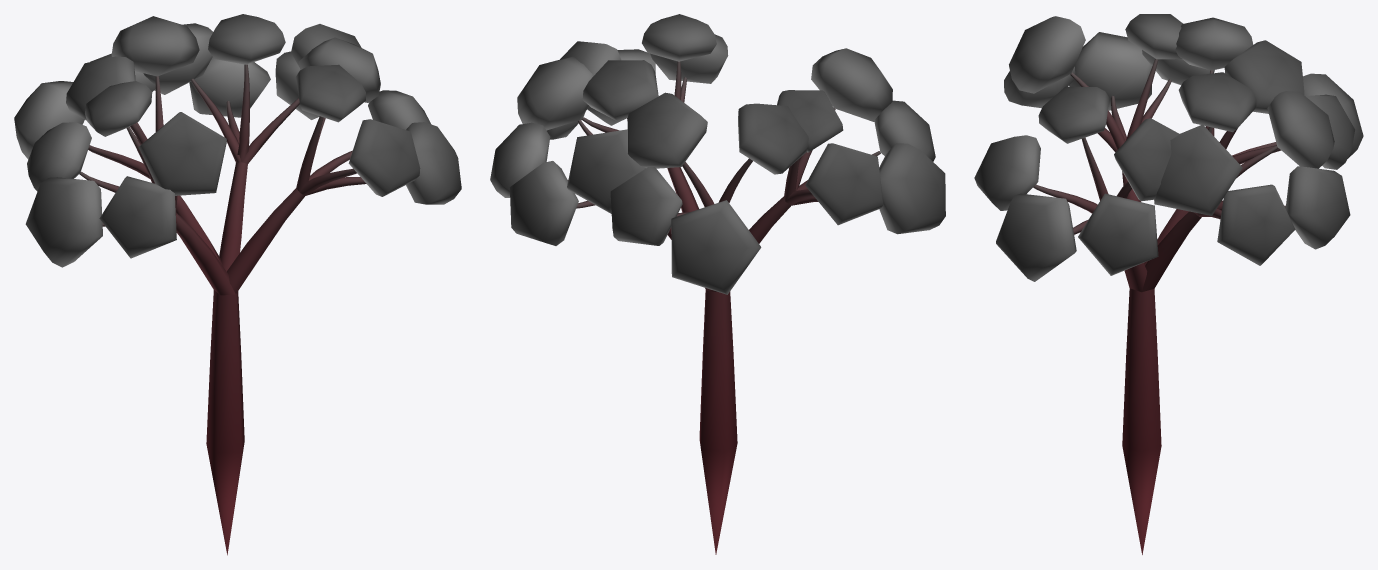
File: plants-trees-palms-gray-leaf-tree_v5.fbx
3 views of the same model, side by side, from view 1: azimuth 30°, elevation 25°; view 2: azimuth 150°, elevation 25°; view 3: azimuth 270°, elevation 25° (orthographic).
Parts seen in each view (by area): view 1: Gray Leaf Tree_v5; view 2: Gray Leaf Tree_v5; view 3: Gray Leaf Tree_v5.
Boxes of the visible parts, x1,y1,x2,y2 form: Gray Leaf Tree_v5: (14,14,461,555); Gray Leaf Tree_v5: (490,14,945,554); Gray Leaf Tree_v5: (974,14,1363,554).
Size of the model in its own units: 4.13 by 5 by 3.5.
